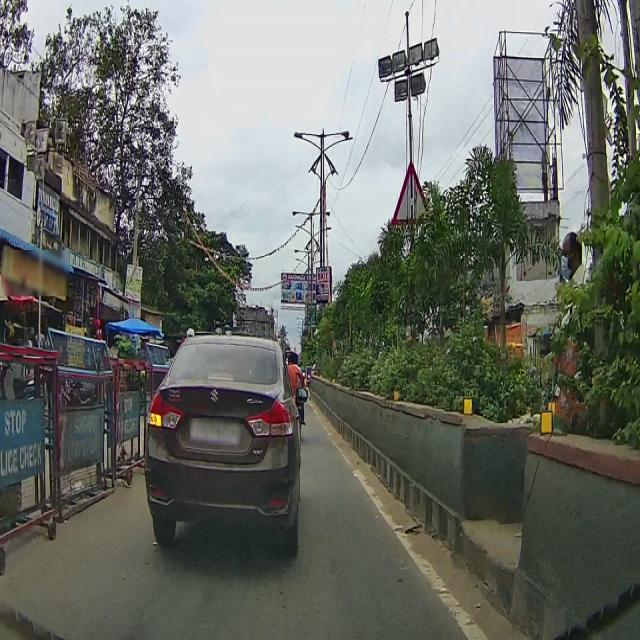gap-in-median: (389, 165, 431, 228)
